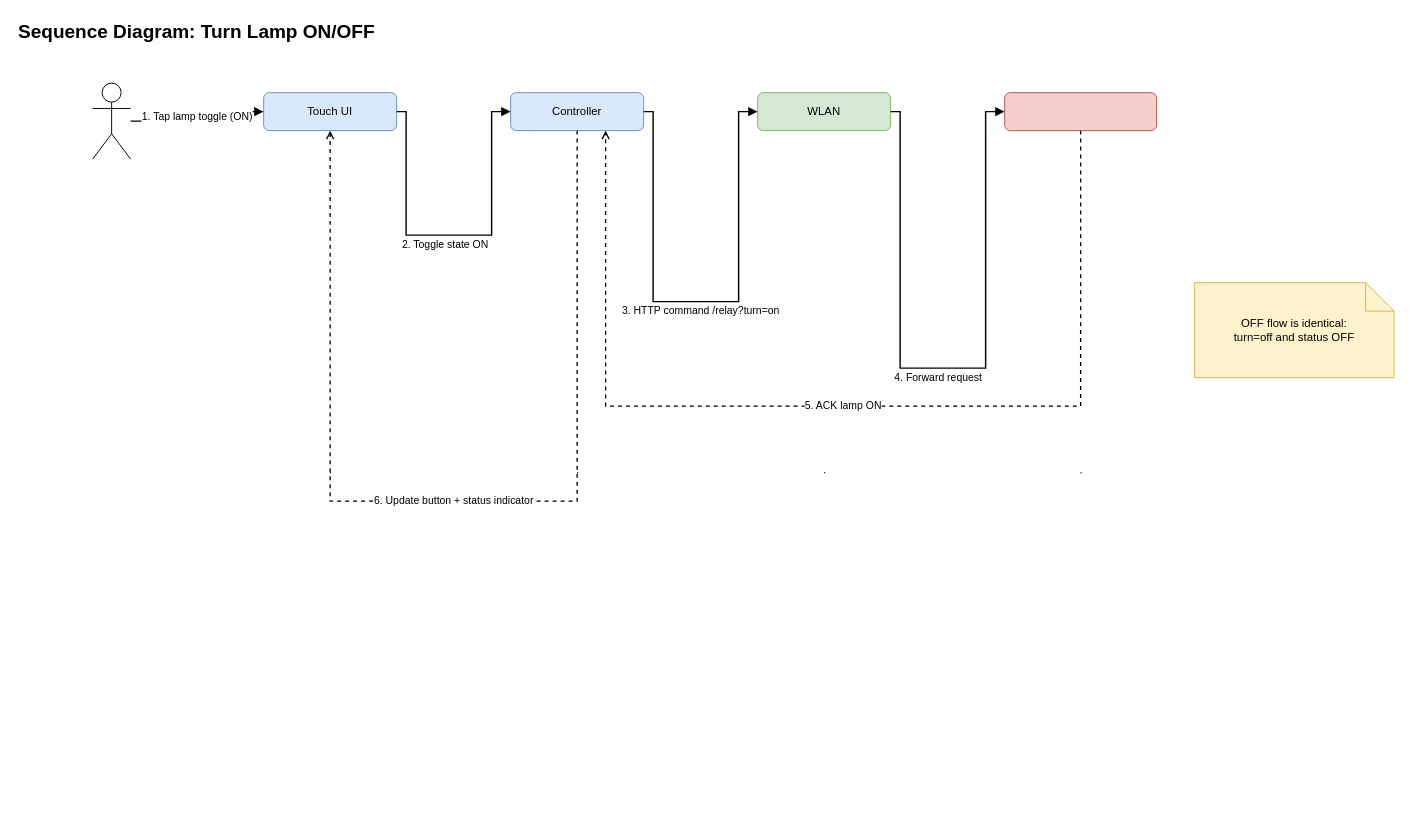
Some shapes in this 1411 by 831 pixel diagram are drawn without their labels. The centre of each missing label's shape, as x and y in pixels:
"Shelly Lamp" belongs at pixel 1080 111.
"User" belongs at pixel 111 120.
